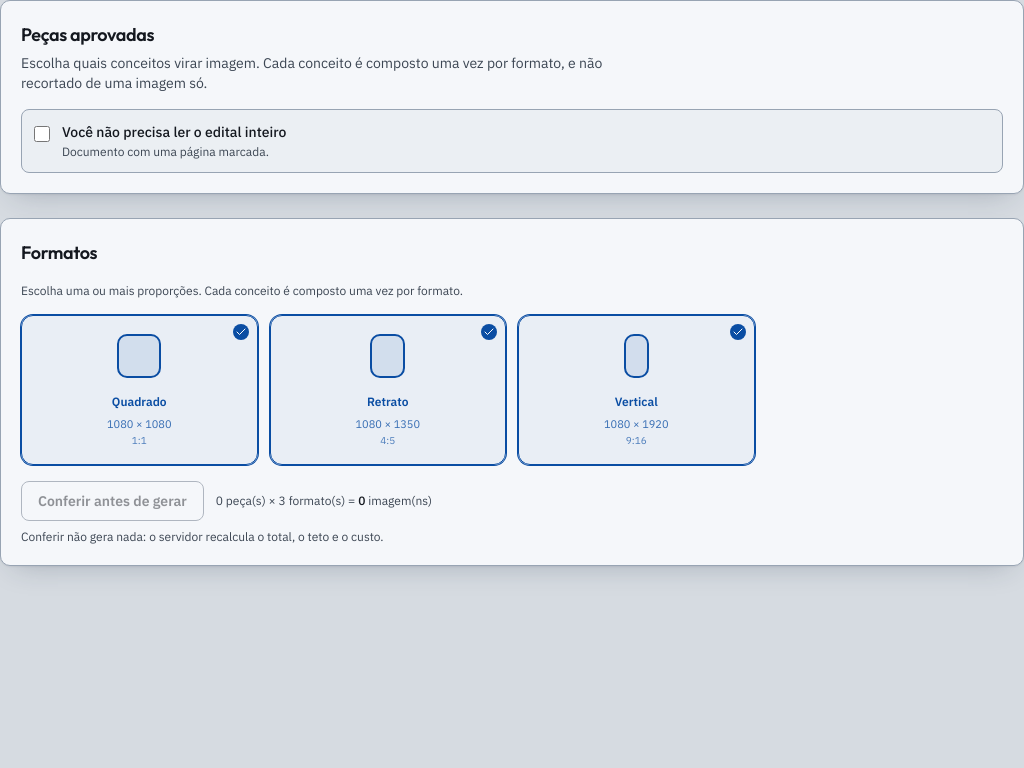
Test: a produção mostra o preço antes do botão › um pedido bloqueado explica o motivo e desabilita a geração
Step 1. Click the checkbox → point(42, 134), box [34, 126, 50, 142]
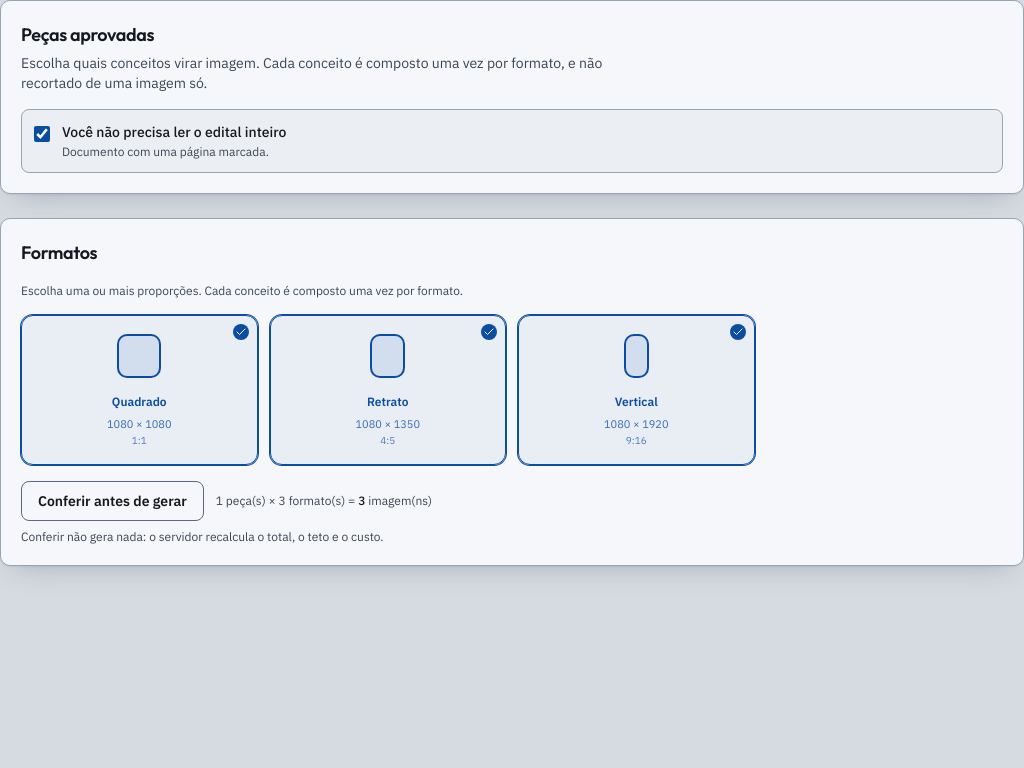
Step 2. Click the button "Conferir antes de gerar" → point(112, 500), box [21, 480, 204, 520]
(page scrolled)
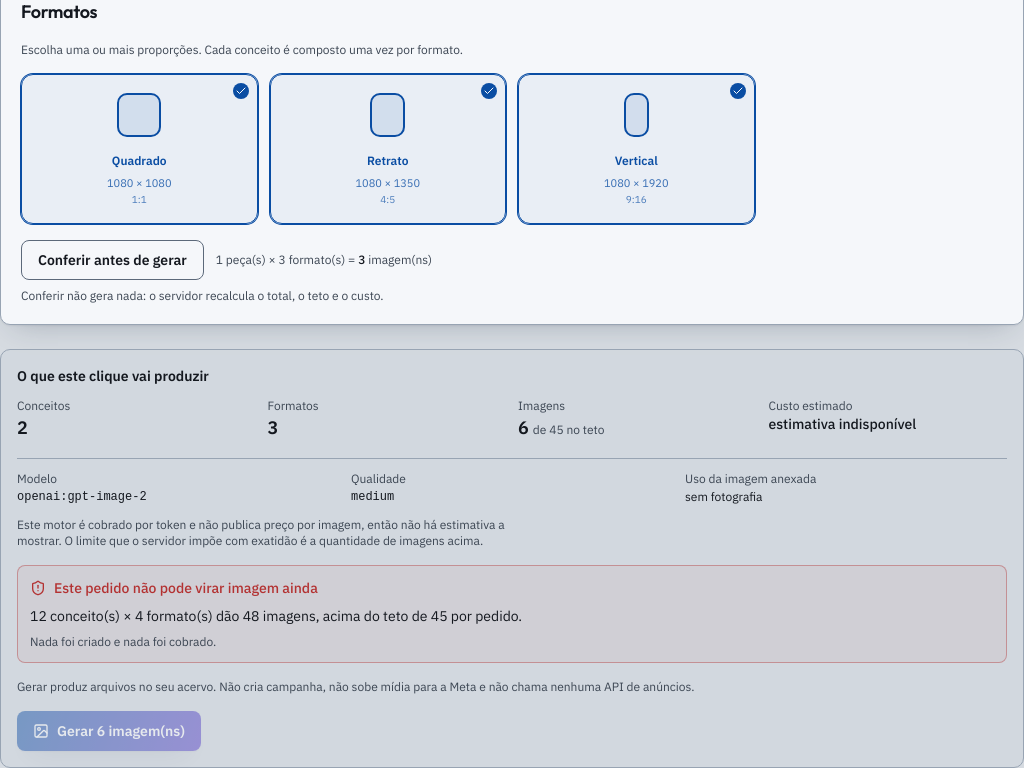
Expected: the list item "acima do teto de 45" is shown, [30, 606, 522, 624]
Expected: the text "Nada foi criado e nada foi cobrado." is shown, [30, 634, 216, 648]
Expected: the button "Gerar 6 imagem(ns)" is disabled, [17, 710, 201, 750]
